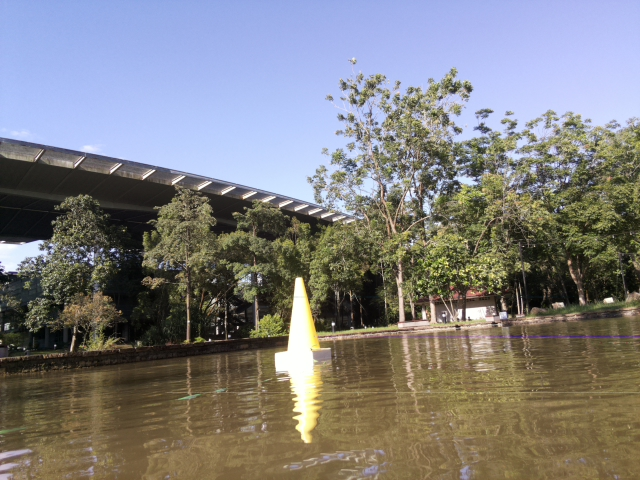checkpoint: (271, 275, 335, 372)
